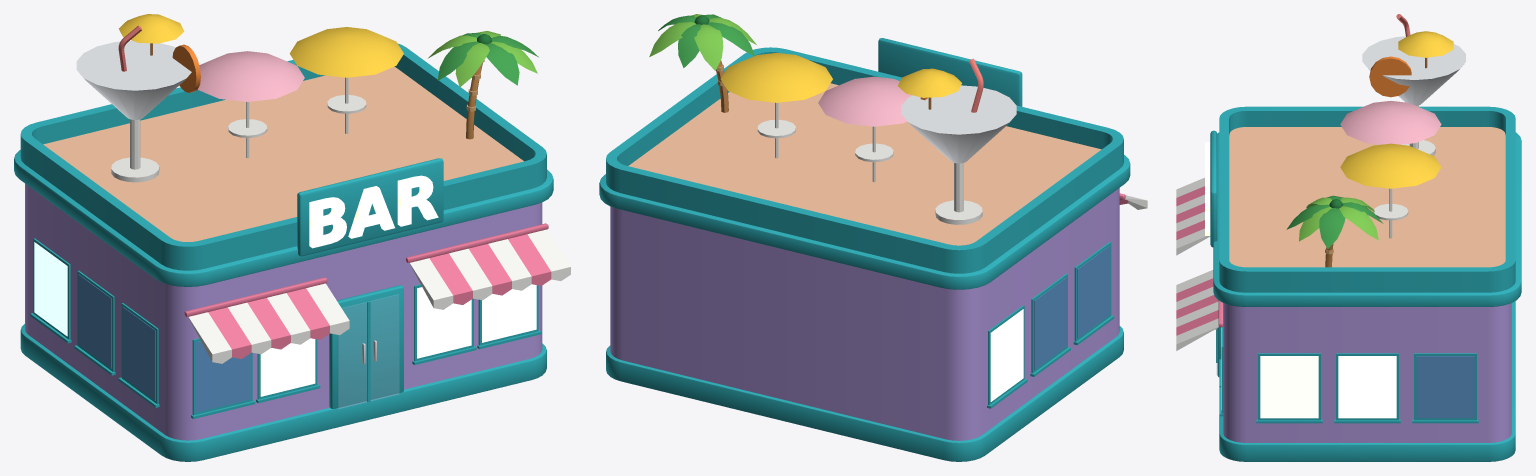
The model's file is bar_praia_lilas.glb.
3 renders of one model, left to right at view 1: azimuth 30°, elevation 25°; view 2: azimuth 150°, elevation 25°; view 3: azimuth 270°, elevation 25°, orthographic. The views are drawn at different scales.
Visible parts, largest first — view 1: bar_praia_lilas; view 2: bar_praia_lilas; view 3: bar_praia_lilas.
Part boxes in pixels (x1,y1,x2,y2): bar_praia_lilas: [14, 14, 570, 461]; bar_praia_lilas: [599, 14, 1147, 461]; bar_praia_lilas: [1176, 14, 1521, 461].
Bounding box in the file's own units: 11.26 × 8.8 × 8.85.
6 materials, 1 textured.
